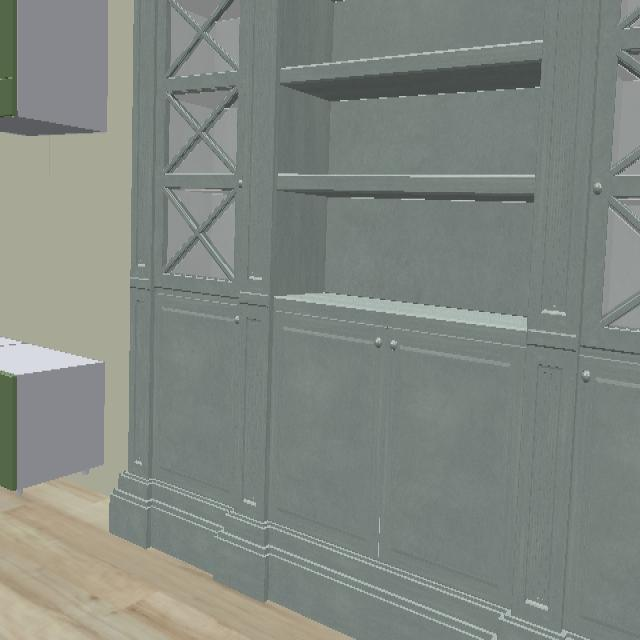bookshelf: (104, 0, 640, 640)
cabinet: (1, 339, 105, 489)
